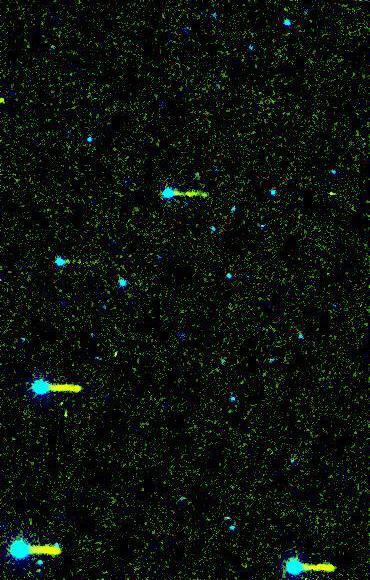star: (316, 178, 346, 208)
